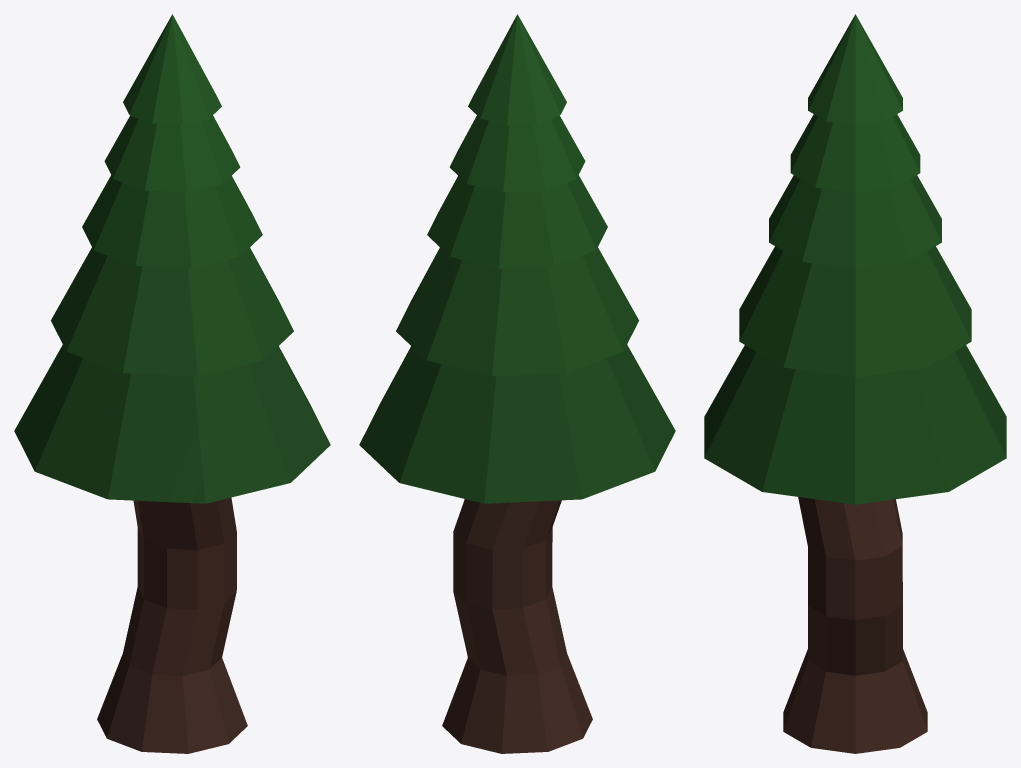
Rendered from Tree.fbx.
3 renders of one model, left to right at view 1: azimuth 30°, elevation 25°; view 2: azimuth 150°, elevation 25°; view 3: azimuth 270°, elevation 25°, orthographic.
Visible parts, largest first — view 1: pasted__pasted__pasted__pasted__pCone1, pCylinder1, pasted__pasted__pasted__pCone1, pasted__pasted__pCone1, pasted__pCone1, pCone1; view 2: pasted__pasted__pasted__pasted__pCone1, pCylinder1, pasted__pasted__pasted__pCone1, pasted__pasted__pCone1, pasted__pCone1, pCone1; view 3: pasted__pasted__pasted__pasted__pCone1, pCylinder1, pasted__pasted__pasted__pCone1, pasted__pasted__pCone1, pasted__pCone1, pCone1.
Part boxes in pixels (x1,y1,x2,y2): pasted__pasted__pasted__pasted__pCone1: (14, 344, 330, 503); pCylinder1: (97, 497, 247, 753); pasted__pasted__pasted__pCone1: (51, 247, 293, 376); pasted__pasted__pCone1: (82, 175, 262, 268); pasted__pCone1: (104, 115, 240, 192); pCone1: (123, 14, 221, 124); pasted__pasted__pasted__pasted__pCone1: (359, 344, 675, 503); pCylinder1: (442, 499, 592, 753); pasted__pasted__pasted__pCone1: (396, 247, 638, 376); pasted__pasted__pCone1: (427, 175, 607, 268); pasted__pCone1: (449, 115, 585, 192); pCone1: (468, 14, 566, 124); pasted__pasted__pasted__pasted__pCone1: (704, 345, 1006, 504); pCylinder1: (783, 497, 927, 753); pasted__pasted__pasted__pCone1: (739, 246, 971, 377); pasted__pasted__pCone1: (769, 175, 941, 268); pasted__pCone1: (790, 114, 920, 192); pCone1: (808, 14, 902, 125).
Bounding box in the file's own units: 6.38 × 15.68 × 6.07.
